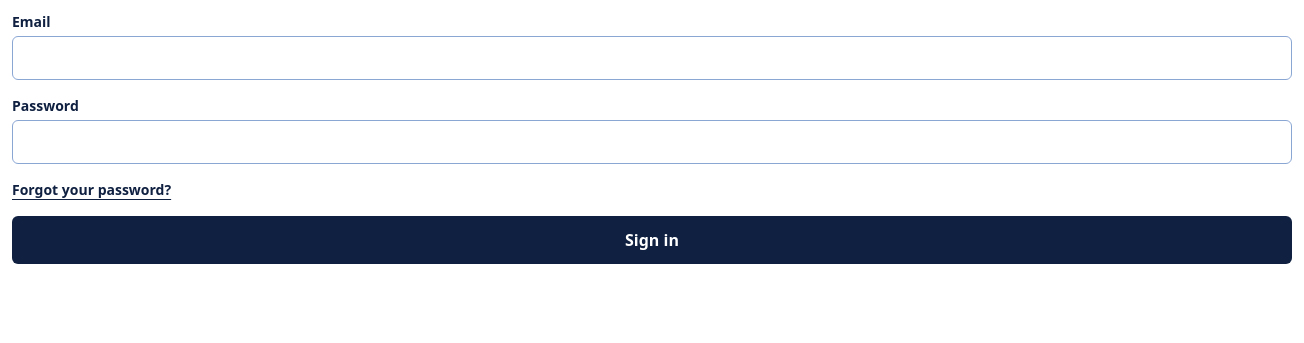
LoginForm › shows a friendly alert for INVALID_CREDENTIALS and does not navigate
This screenshot has width=1304, height=343.
Type "ada@example.org" into the field labelled "Email" at (652, 58), box x1=12 y1=36 x2=1292 y2=80
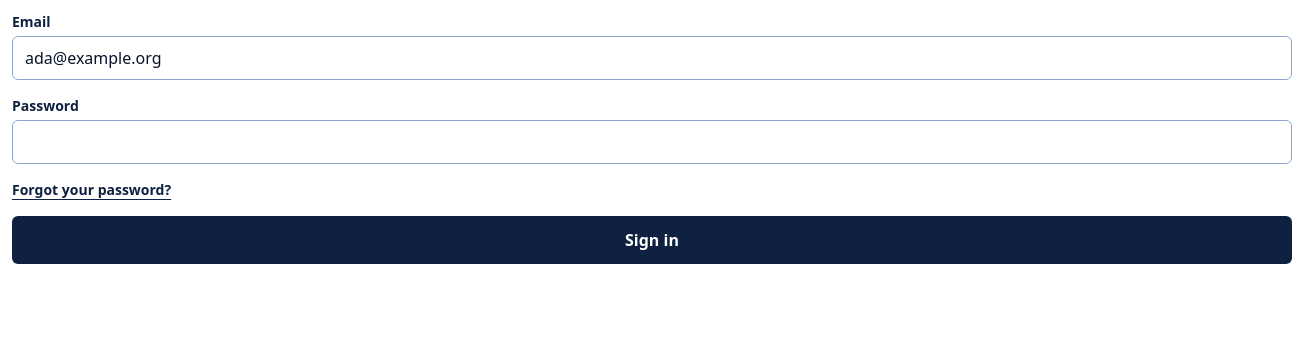
Type "whatever-password-1" into the password field labelled "Password" at (652, 142), box x1=12 y1=120 x2=1292 y2=164
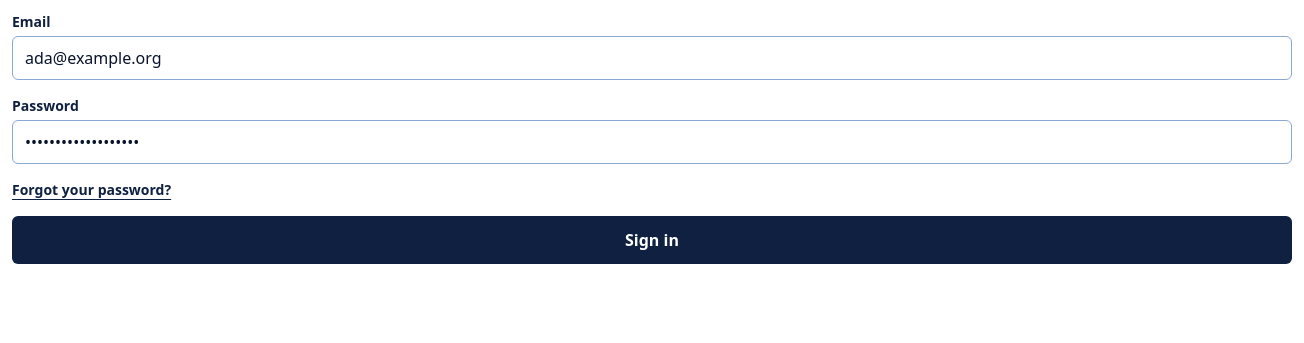
Click the button "Sign in" at (652, 240), box x1=12 y1=216 x2=1292 y2=264
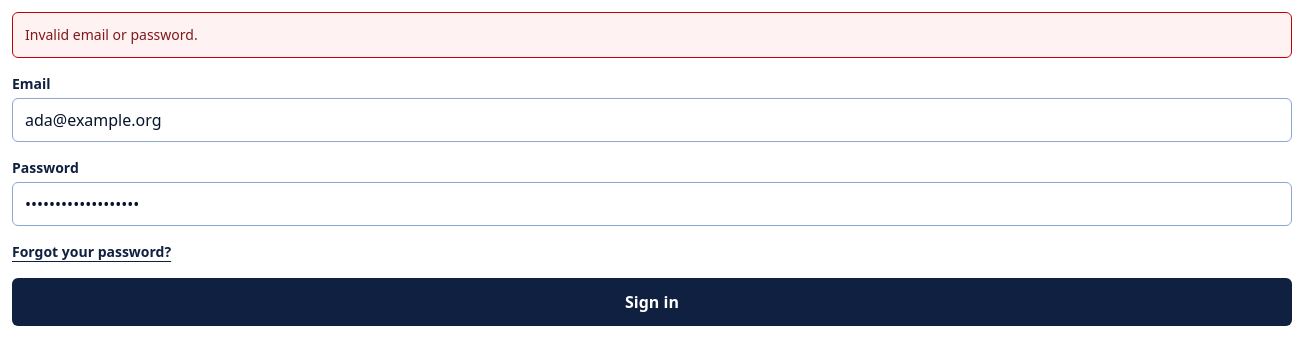
Expected: the message shows "Invalid email or password", x1=25 y1=25 x2=198 y2=44
